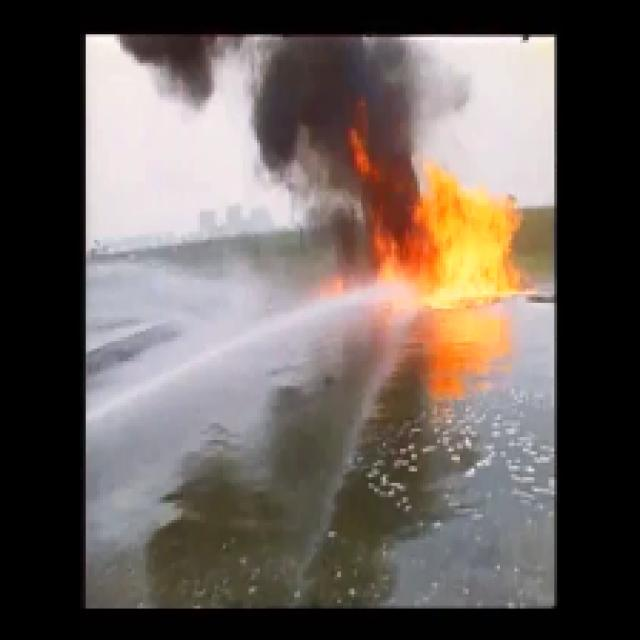fire: (417, 177, 528, 308)
smoke: (120, 35, 412, 162)
